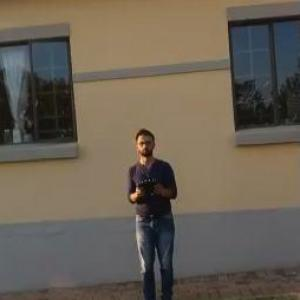follow: (124, 124, 187, 299)
